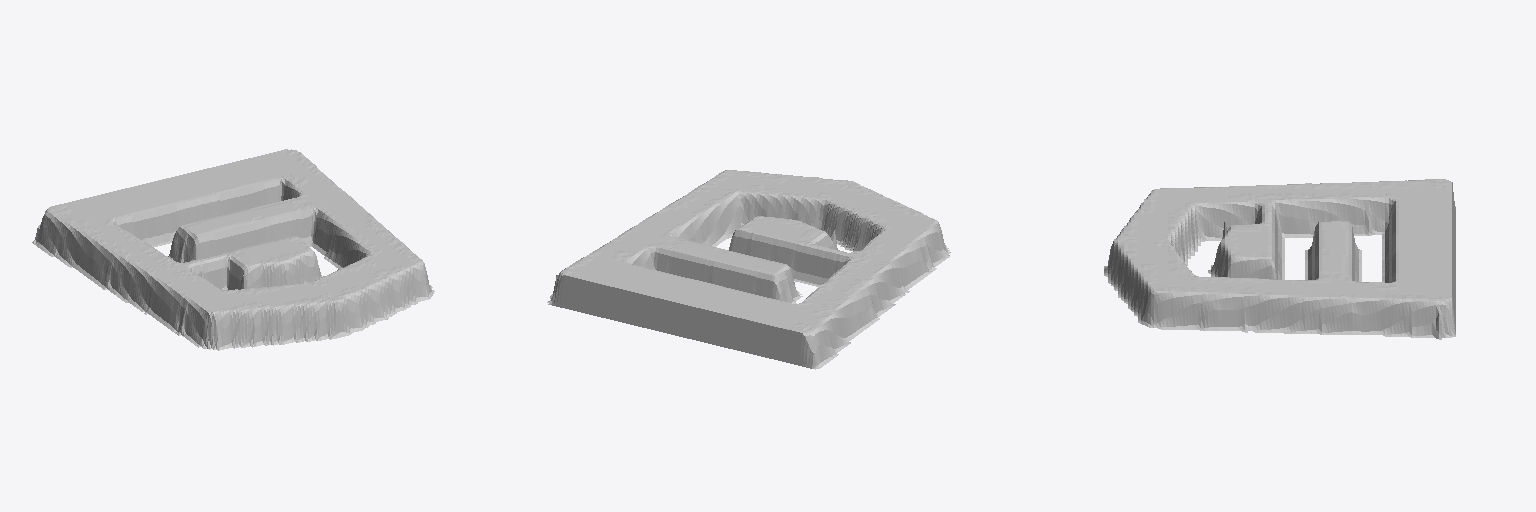
Rendered from html.obj.
The picture shows the model from 3 angles: view 1: azimuth 30°, elevation 25°; view 2: azimuth 150°, elevation 25°; view 3: azimuth 270°, elevation 25°; orthographic projection.
Visible parts, largest first — view 1: ImageToStl.com_kisspng-web-development-html-responsive-web-desi; view 2: ImageToStl.com_kisspng-web-development-html-responsive-web-desi; view 3: ImageToStl.com_kisspng-web-development-html-responsive-web-desi.
Boxes of the visible parts, x1,y1,x2,y2 form: ImageToStl.com_kisspng-web-development-html-responsive-web-desi: [32, 149, 434, 350]; ImageToStl.com_kisspng-web-development-html-responsive-web-desi: [547, 170, 950, 369]; ImageToStl.com_kisspng-web-development-html-responsive-web-desi: [1104, 179, 1455, 339].
Size of the model in its own units: 6.43 by 0.7297 by 7.11.